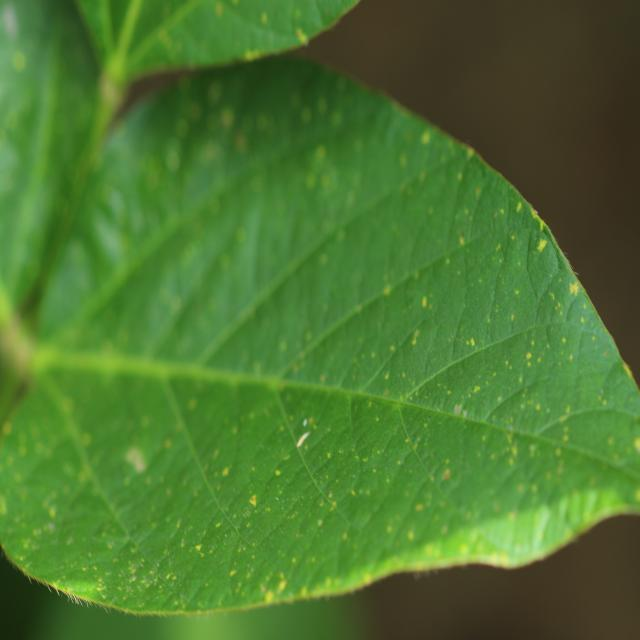Soybean: (0, 0, 640, 640)
downey_mildew: (58, 115, 259, 351), (309, 144, 457, 282), (233, 414, 378, 528), (437, 222, 539, 372), (1, 2, 89, 168), (155, 372, 240, 535), (2, 107, 66, 301), (145, 498, 256, 598), (207, 389, 295, 506), (529, 409, 640, 492), (123, 42, 315, 88), (90, 2, 210, 72), (7, 393, 81, 500), (274, 121, 349, 221), (0, 272, 42, 449), (76, 161, 145, 268), (458, 499, 573, 563), (35, 237, 104, 340), (150, 604, 341, 640), (397, 400, 456, 514), (368, 305, 447, 390), (402, 347, 483, 428), (404, 519, 518, 570), (48, 589, 242, 618), (57, 481, 120, 563), (208, 577, 350, 612), (117, 536, 191, 599), (550, 484, 627, 540), (276, 3, 369, 46), (590, 360, 640, 435), (561, 294, 611, 364), (448, 265, 477, 362), (49, 575, 120, 609), (526, 232, 559, 300), (554, 238, 579, 275), (317, 1, 350, 23), (3, 6, 17, 35), (220, 108, 233, 127), (13, 51, 26, 70), (531, 212, 545, 229), (134, 451, 146, 470), (234, 133, 246, 151), (25, 570, 35, 587), (315, 146, 326, 161), (301, 107, 312, 122), (569, 281, 580, 295), (537, 238, 547, 252), (421, 131, 431, 144), (215, 3, 223, 17), (298, 32, 307, 44), (68, 594, 77, 606), (301, 37, 309, 49), (530, 206, 539, 216), (53, 586, 61, 597), (261, 12, 268, 24), (529, 445, 536, 456), (516, 201, 522, 212), (46, 583, 52, 593), (362, 456, 368, 463), (384, 373, 390, 380), (66, 593, 70, 602), (385, 389, 390, 396), (181, 538, 185, 546), (355, 455, 360, 461), (390, 345, 395, 351), (375, 416, 379, 422)
